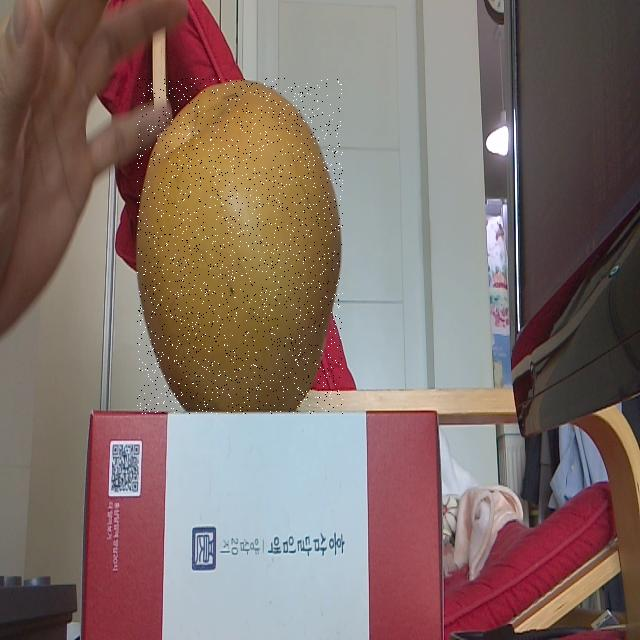pear: (137, 78, 343, 414)
